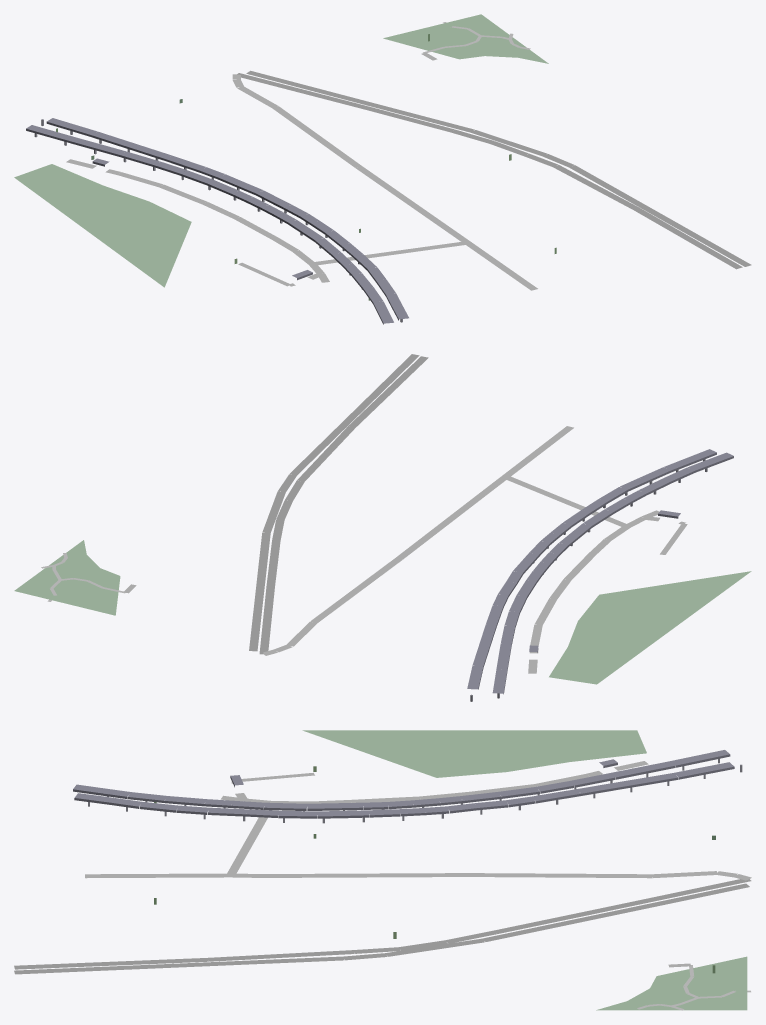
3 views of the same model, one above another, from view 1: azimuth 30°, elevation 25°; view 2: azimuth 150°, elevation 25°; view 3: azimuth 270°, elevation 25° (orthographic). The views are drawn at different scales.
Bounding box in the file's own units: 503 × 9.25 × 555.
